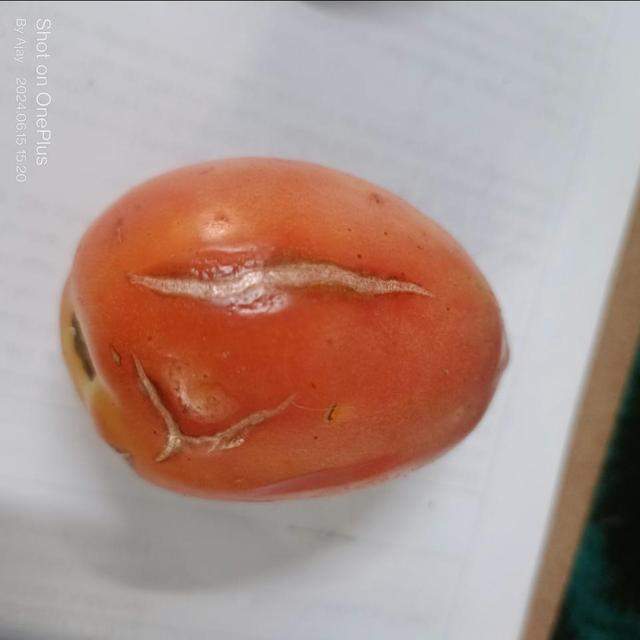Cracking Fruit: (86, 191, 189, 284)
